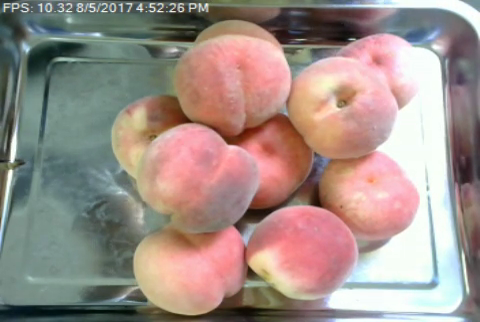Peach: (134, 122, 260, 230), (174, 20, 291, 136), (286, 57, 400, 161), (130, 223, 252, 314), (244, 205, 357, 299), (317, 148, 420, 240)
